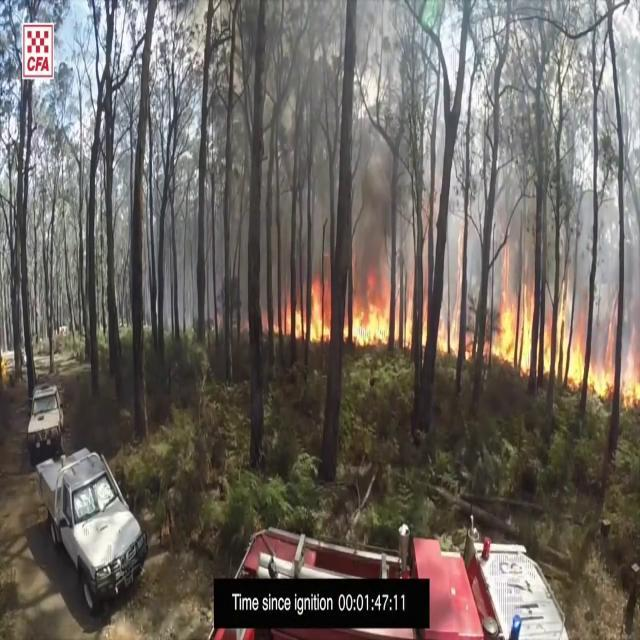Fire: (294, 264, 406, 350), (566, 311, 640, 408), (491, 274, 558, 378)
Smoke: (218, 0, 368, 272)
